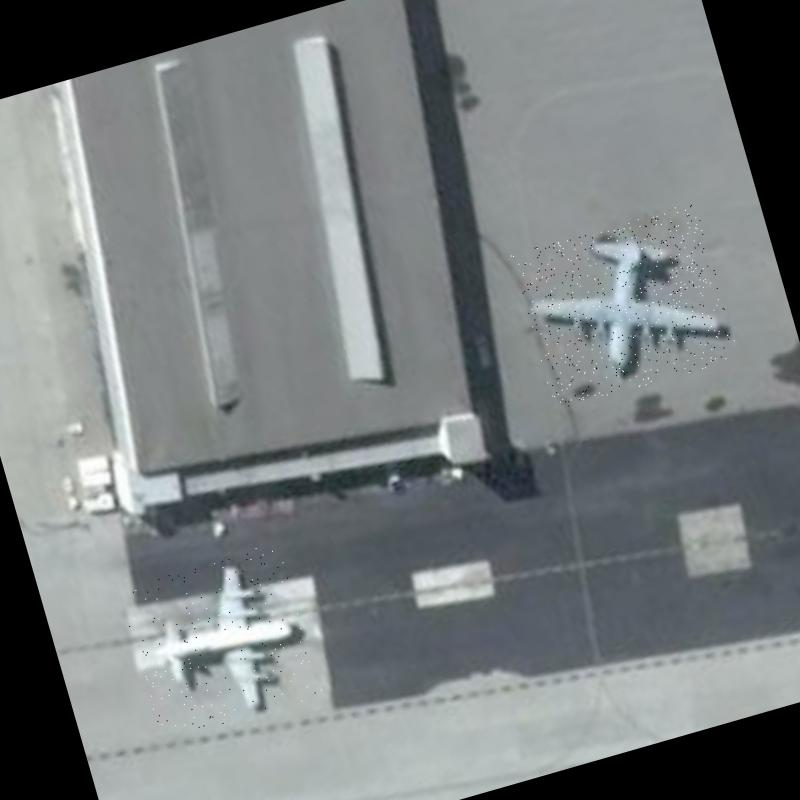A2: (511, 201, 740, 411)
A9: (117, 541, 324, 742)
